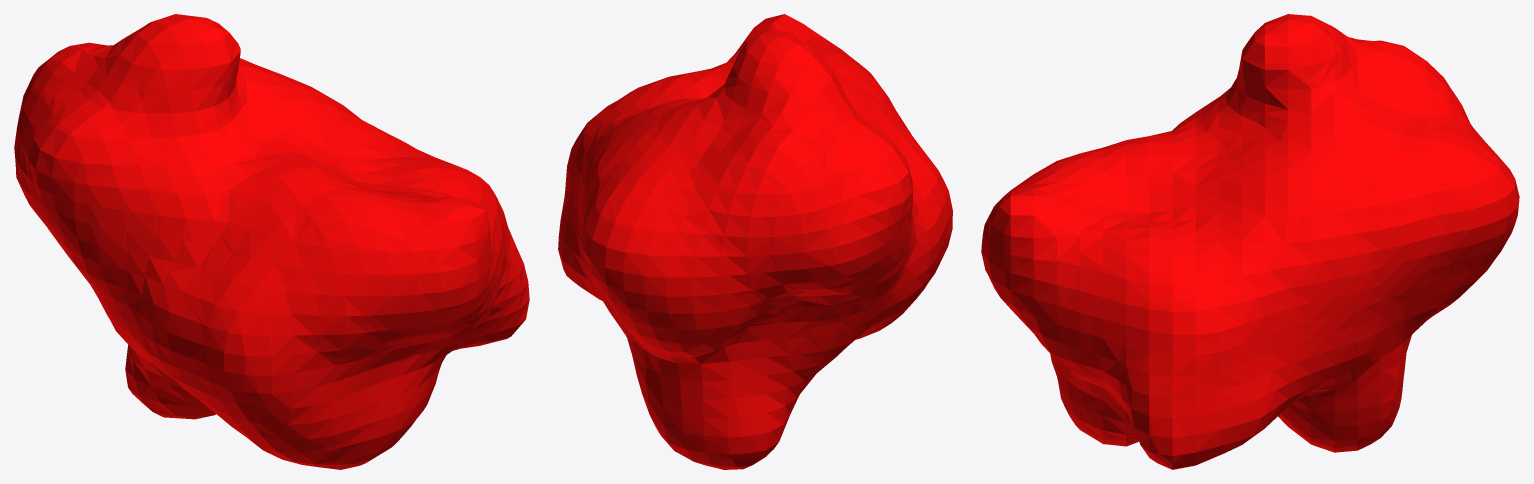
The model's file is acpS_coarse.dae.
3 renders of one model, left to right at view 1: azimuth 30°, elevation 25°; view 2: azimuth 150°, elevation 25°; view 3: azimuth 270°, elevation 25°, orthographic. The views are drawn at different scales.
Parts seen in each view (by area): view 1: acpS; view 2: acpS; view 3: acpS.
Part boxes in pixels (<box>): acpS: <box>14,14,529,469</box>; acpS: <box>558,14,952,469</box>; acpS: <box>981,14,1519,469</box>.
Bounding box in the file's own units: 41.75 × 40.4 × 48.03.
